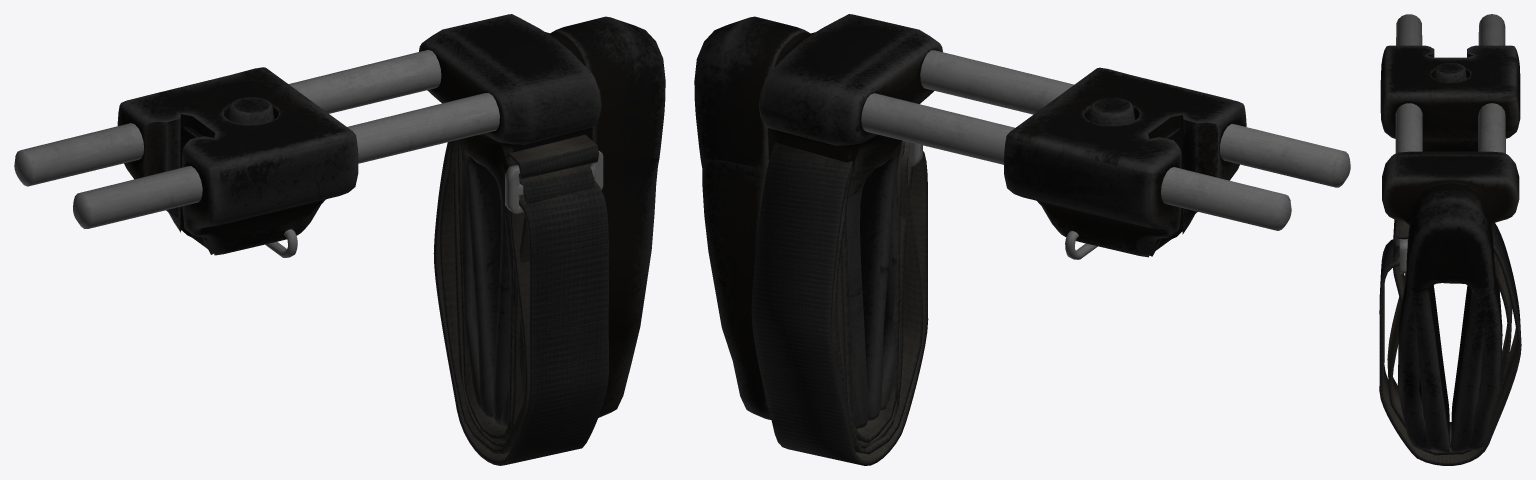
The model's file is MPX_PSB.fbx.
The picture shows the model from 3 angles, left to right: view 1: azimuth 30°, elevation 25°; view 2: azimuth 150°, elevation 25°; view 3: azimuth 270°, elevation 25°; orthographic projection. The views are drawn at different scales.
Parts seen in each view (by area): view 1: StockEnd_Open_low, Strap_Open_low, Connector_low, Rails_low, StockEnd_Closed_low, Strap_Closed_low, Button_low, Strap_Holder_low; view 2: Strap_Open_low, StockEnd_Closed_low, Connector_low, StockEnd_Open_low, Rails_low, Strap_Closed_low, Button_low; view 3: StockEnd_Open_low, StockEnd_Closed_low, Connector_low, Strap_Open_low, Rails_low, Button_low, Strap_Closed_low, Strap_Holder_low.
Part boxes in pixels (x1,y1,x2,y2): StockEnd_Open_low: (419, 19, 665, 427); Strap_Open_low: (433, 134, 608, 465); Connector_low: (117, 67, 358, 255); Rails_low: (14, 49, 499, 228); StockEnd_Closed_low: (419, 14, 658, 425); Strap_Closed_low: (453, 140, 594, 448); Button_low: (228, 97, 274, 124); Strap_Holder_low: (505, 151, 603, 213); Strap_Open_low: (751, 142, 928, 465); StockEnd_Closed_low: (694, 17, 939, 428); Connector_low: (1004, 67, 1246, 257); StockEnd_Open_low: (695, 14, 942, 428); Rails_low: (861, 50, 1350, 230); Strap_Closed_low: (777, 140, 913, 448); Button_low: (1088, 97, 1135, 125); StockEnd_Open_low: (1382, 151, 1519, 449); StockEnd_Closed_low: (1382, 151, 1519, 452); Connector_low: (1380, 45, 1520, 151); Strap_Open_low: (1379, 219, 1521, 465); Rails_low: (1395, 14, 1505, 153); Button_low: (1434, 63, 1466, 82); Strap_Closed_low: (1393, 244, 1499, 450); Strap_Holder_low: (1399, 239, 1407, 273).
Size of the model in its own units: 1.58 by 0.4589 by 1.04.
1 material, 1 textured.
